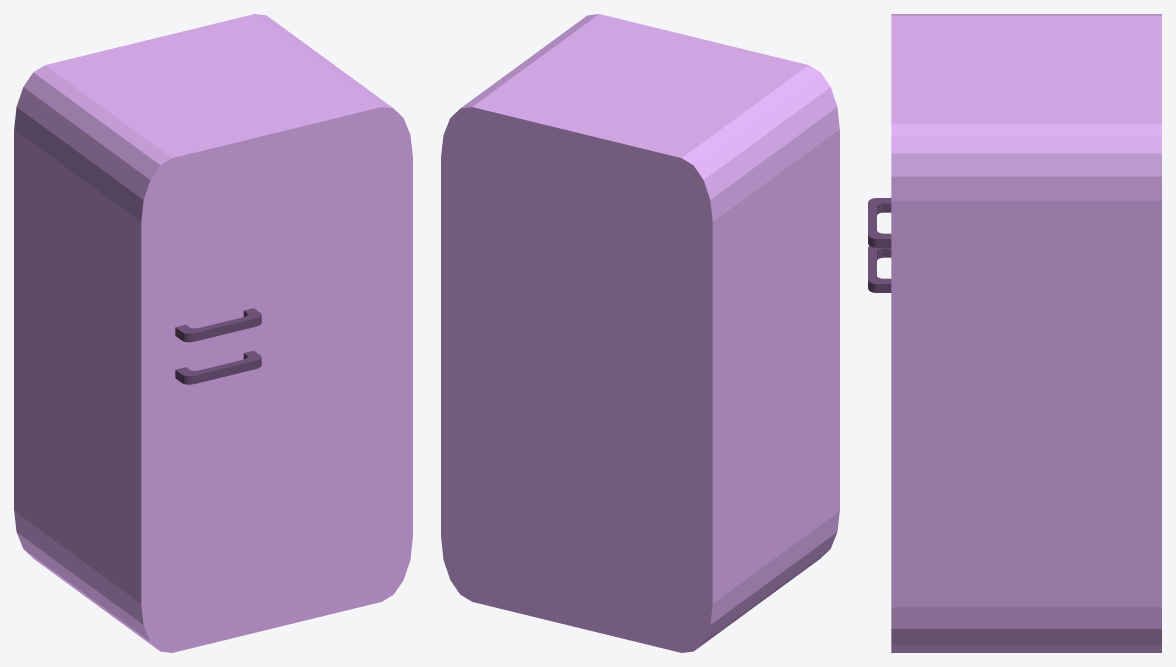
The model's file is fridge.fbx.
3 renders of one model, left to right at view 1: azimuth 30°, elevation 25°; view 2: azimuth 150°, elevation 25°; view 3: azimuth 270°, elevation 25°, orthographic. The views are drawn at different scales.
Parts seen in each view (by area): view 1: body, lower door, upper door.001; view 2: body, upper door.001, lower door; view 3: body, upper door.001, lower door.
Part boxes in pixels (x1,y1,x2,y2): body: (14, 14, 386, 646); lower door: (135, 294, 412, 652); upper door.001: (135, 102, 412, 360); body: (441, 18, 833, 652); upper door.001: (582, 14, 839, 271); lower door: (816, 267, 839, 561); body: (903, 14, 1161, 652); upper door.001: (868, 14, 903, 347); lower door: (868, 245, 903, 652).
Size of the model in its own units: 287 by 500 by 253.
